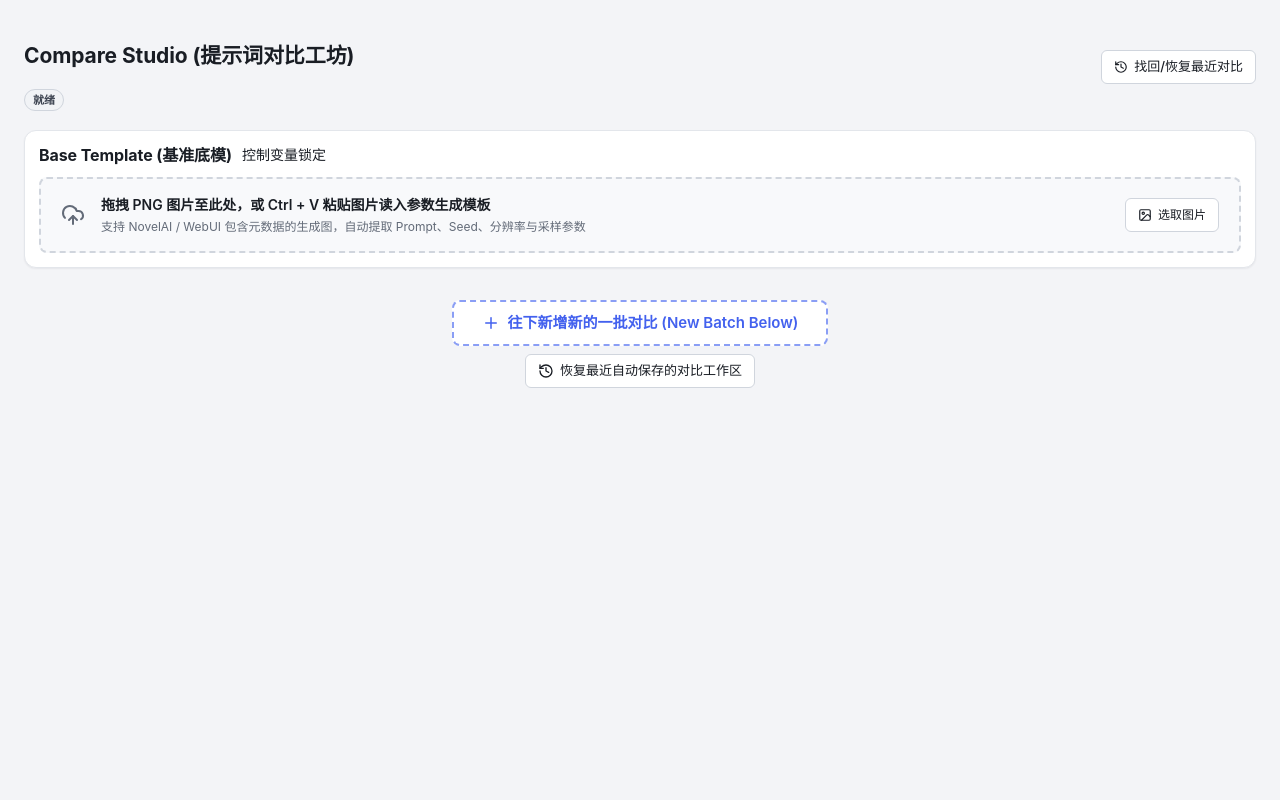
Test: CompareStudio › allows clicking add round to create a new round section
Step 1. Click the button "往下新增新的一批对比 (New Batch Below)" → x=640, y=323, box [452, 300, 828, 346]
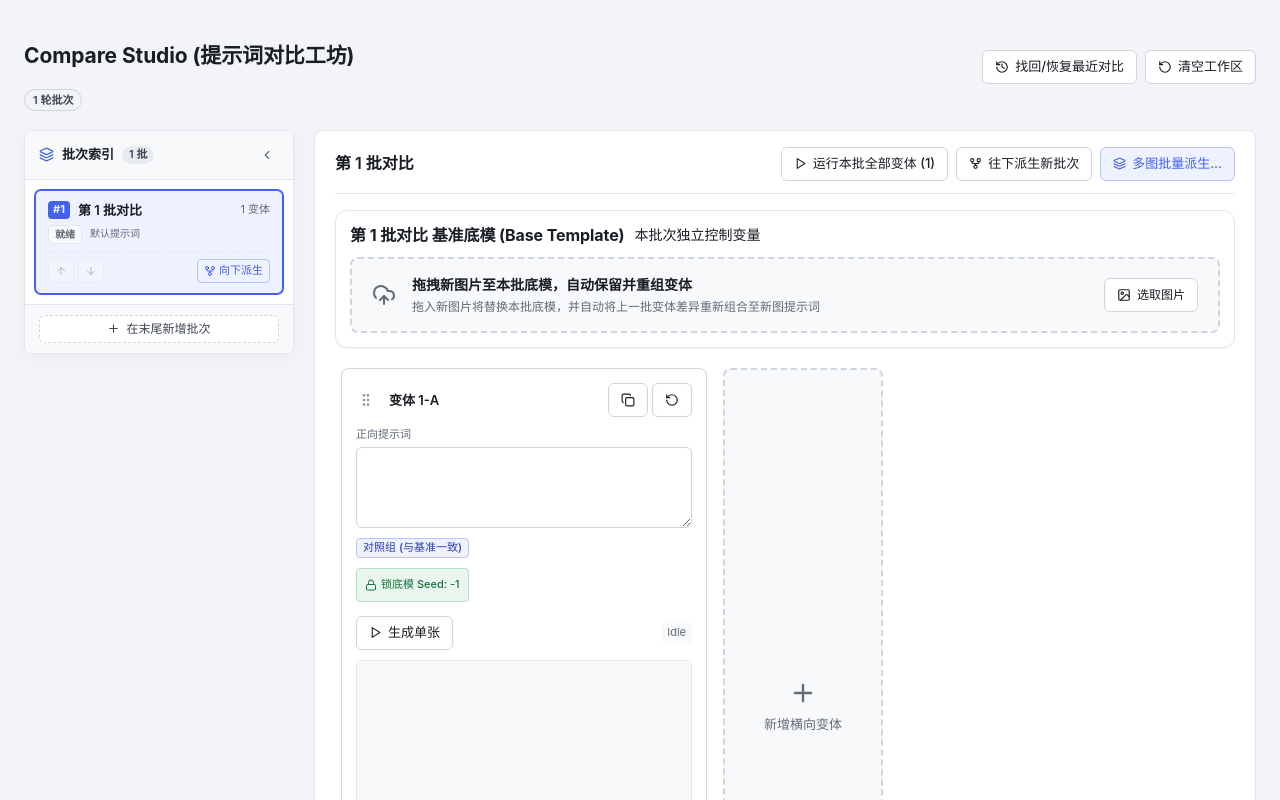
Check: the field showing "变体 1-A" is shown, box [384, 383, 600, 417]
Step 2. Click the button "清空工作区" → x=1200, y=67, box [1145, 50, 1256, 84]
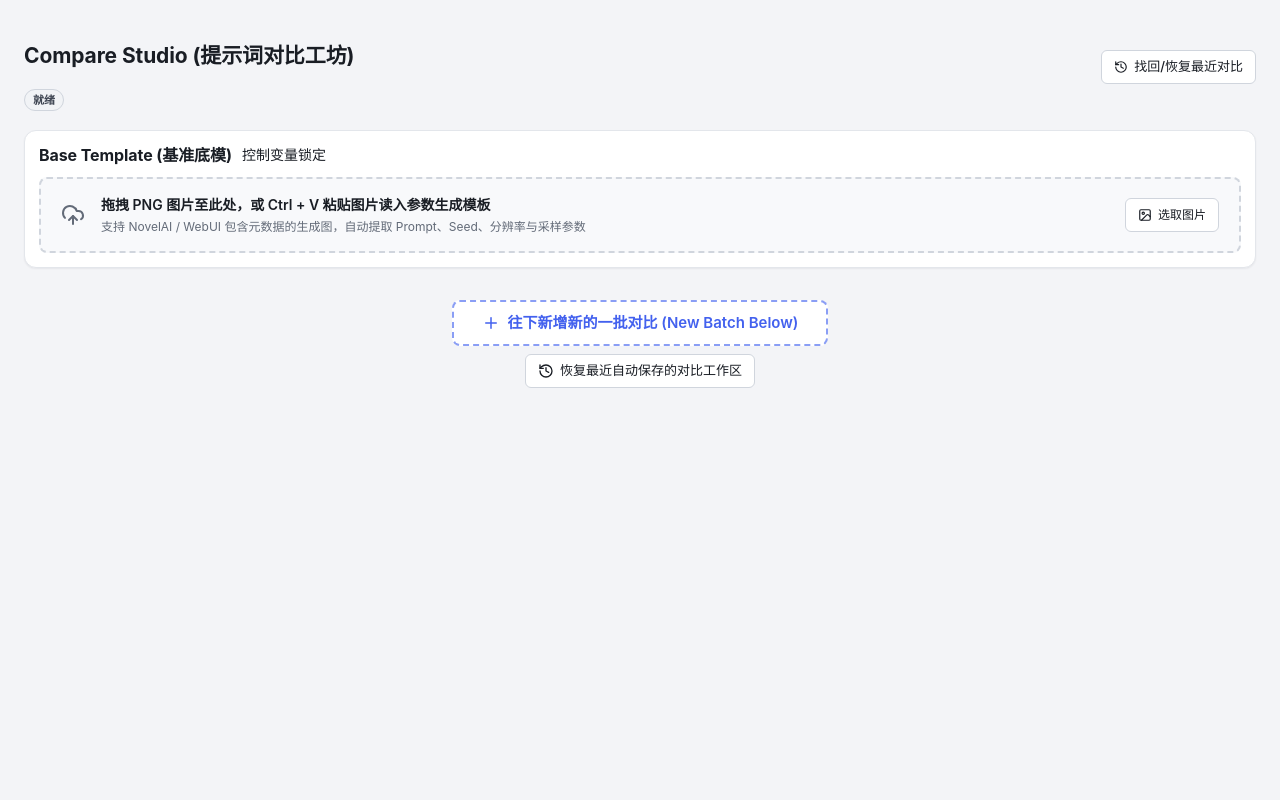
Check: the text "第 1 批对比" is gone
